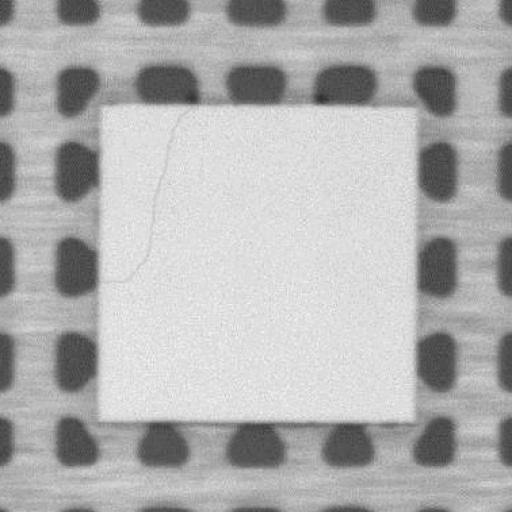DIE_CRACK: (102, 105, 195, 284)
